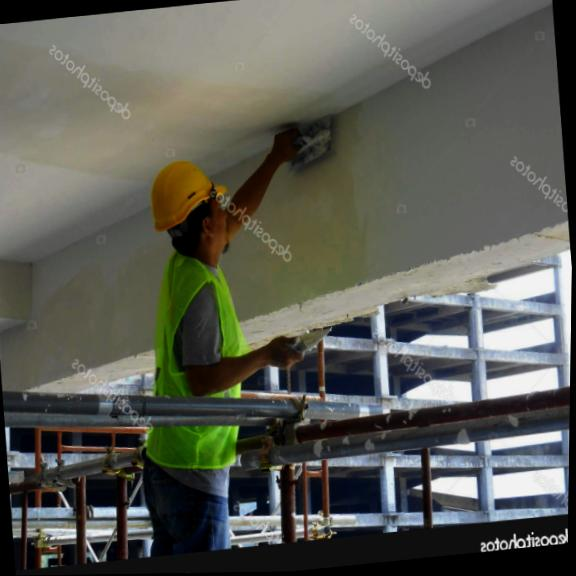safety_vest: (128, 258, 253, 474)
